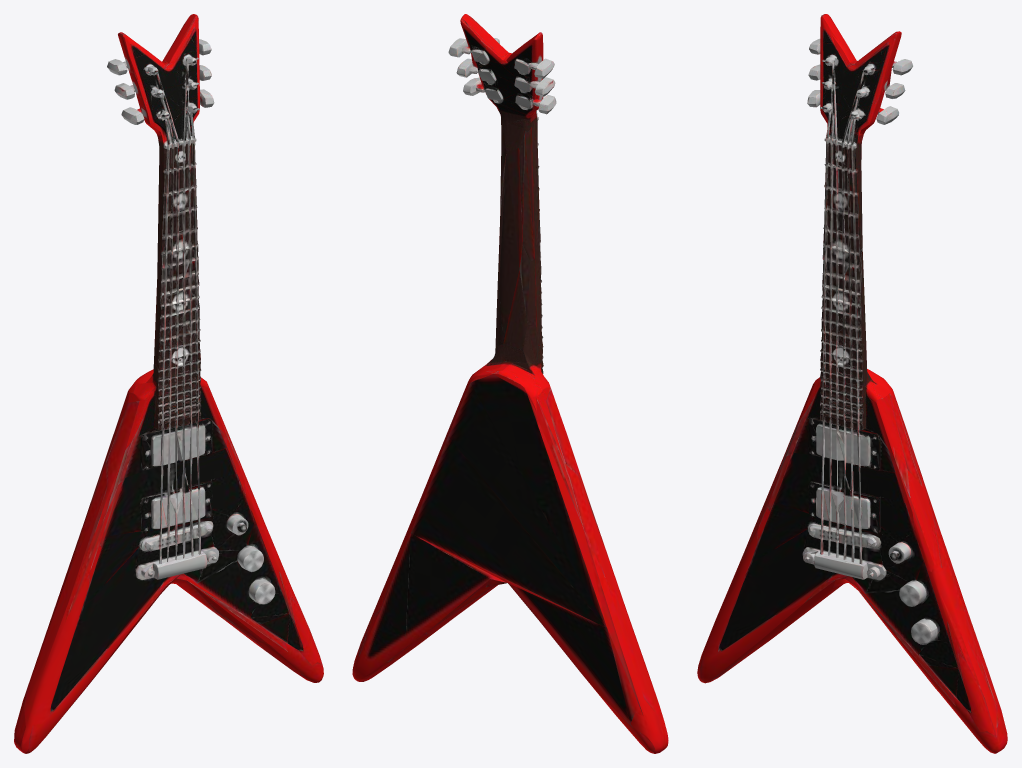
The model's file is guitar.glb.
3 views of the same model, side by side, from view 1: azimuth 30°, elevation 25°; view 2: azimuth 150°, elevation 25°; view 3: azimuth 330°, elevation 25° (orthographic).
Parts seen in each view (by area): view 1: Mesh_0; view 2: Mesh_0; view 3: Mesh_0.
Part boxes in pixels (box(x1,y1,x2,y2)): Mesh_0: box(14, 14, 323, 753); Mesh_0: box(352, 14, 668, 753); Mesh_0: box(697, 14, 1007, 753).
Size of the model in its own units: 0.8789 by 1.9 by 0.1621.
Materials: 1 (1 with a texture image).
